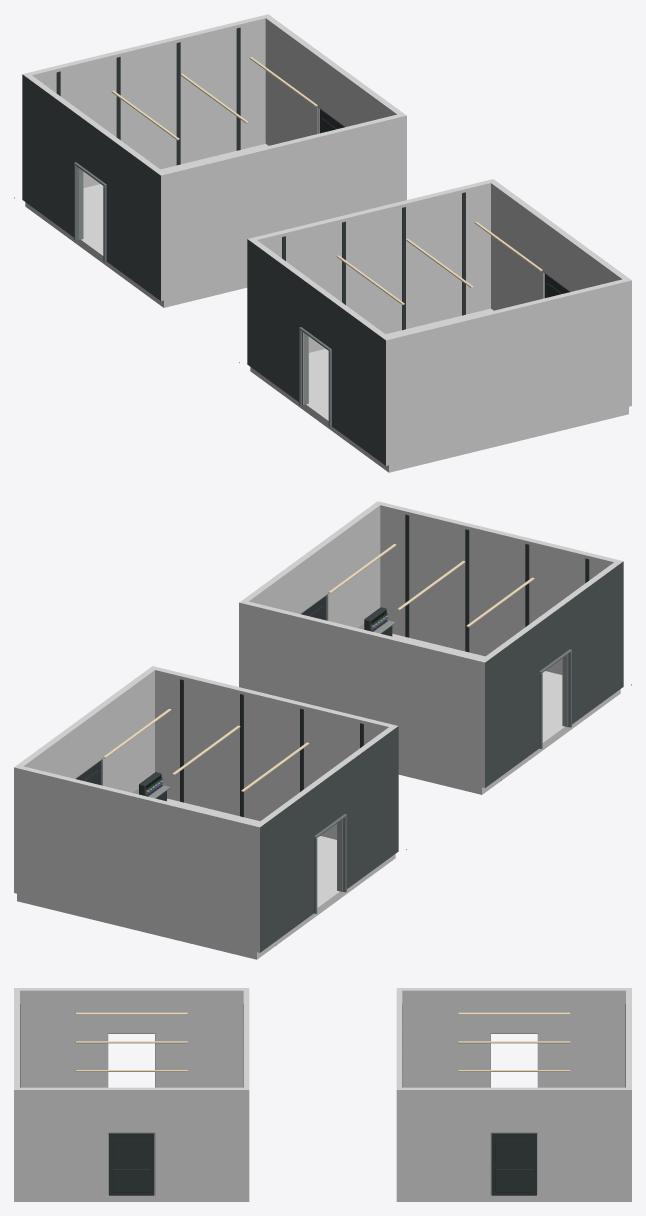
Rendered from R7_MAP_Basic.fbx.
The picture shows the model from 3 angles, top to bottom: view 1: azimuth 30°, elevation 25°; view 2: azimuth 150°, elevation 25°; view 3: azimuth 270°, elevation 25°; orthographic projection. The views are drawn at different scales.
Visible parts, largest first — view 1: South wall.006, South wall.013, North wall.013, North wall.006, East wall south.012, East wall south.005, East wall north.005, East wall north.012, East wall north.013, East wall north.006, Floor.006, Floor.013 (+6 smaller); view 2: North wall.013, North wall.006, South wall.006, South wall.013, East wall north.005, East wall north.012, East wall south.012, East wall south.005, East wall south.006, East wall south.013, Floor.013, Floor.006 (+6 smaller); view 3: East wall north.006, East wall north.013, East wall south.006, East wall south.013, East wall north.005, East wall south.012, East wall north.012, East wall south.005, East lintel.006, East lintel.013, East lintel.005, East lintel.012 (+16 smaller).
Part boxes in pixels (x1,y1,x2,y2): South wall.006: (389,279,625,464); South wall.013: (164,114,400,299); North wall.013: (28,15,265,187); North wall.006: (254,180,490,352); East wall south.012: (105,133,166,300); East wall south.005: (330,298,391,465); East wall north.005: (247,237,308,404); East wall north.012: (22,73,83,240); East wall north.013: (263,14,323,145); East wall north.006: (487,179,548,310); Floor.006: (250,308,628,472); Floor.013: (25,143,268,307); North wall.013: (20,766,256,951); North wall.006: (245,601,481,786); South wall.006: (380,502,617,674); South wall.013: (155,667,391,839); East wall north.005: (479,620,540,787); East wall north.012: (254,785,315,952); East wall south.012: (337,724,398,891); East wall south.005: (562,560,623,727); East wall south.006: (322,501,382,627); East wall south.013: (97,666,158,792); Floor.013: (17,798,395,959); Floor.006: (392,633,620,794); East wall north.006: (155,1087,249,1196); East wall north.013: (537,1087,631,1196); East wall south.006: (14,1087,108,1196); East wall south.013: (396,1087,490,1196); East wall north.005: (155,988,249,1087); East wall south.012: (396,988,490,1087); East wall north.012: (537,988,631,1087); East wall south.005: (14,988,108,1087); East lintel.006: (108,1087,155,1132); East lintel.013: (490,1087,537,1132); East lintel.005: (108,988,155,1033); East lintel.012: (490,988,537,1033).
Bounding box in the file's own units: 861 × 424 × 2100.
